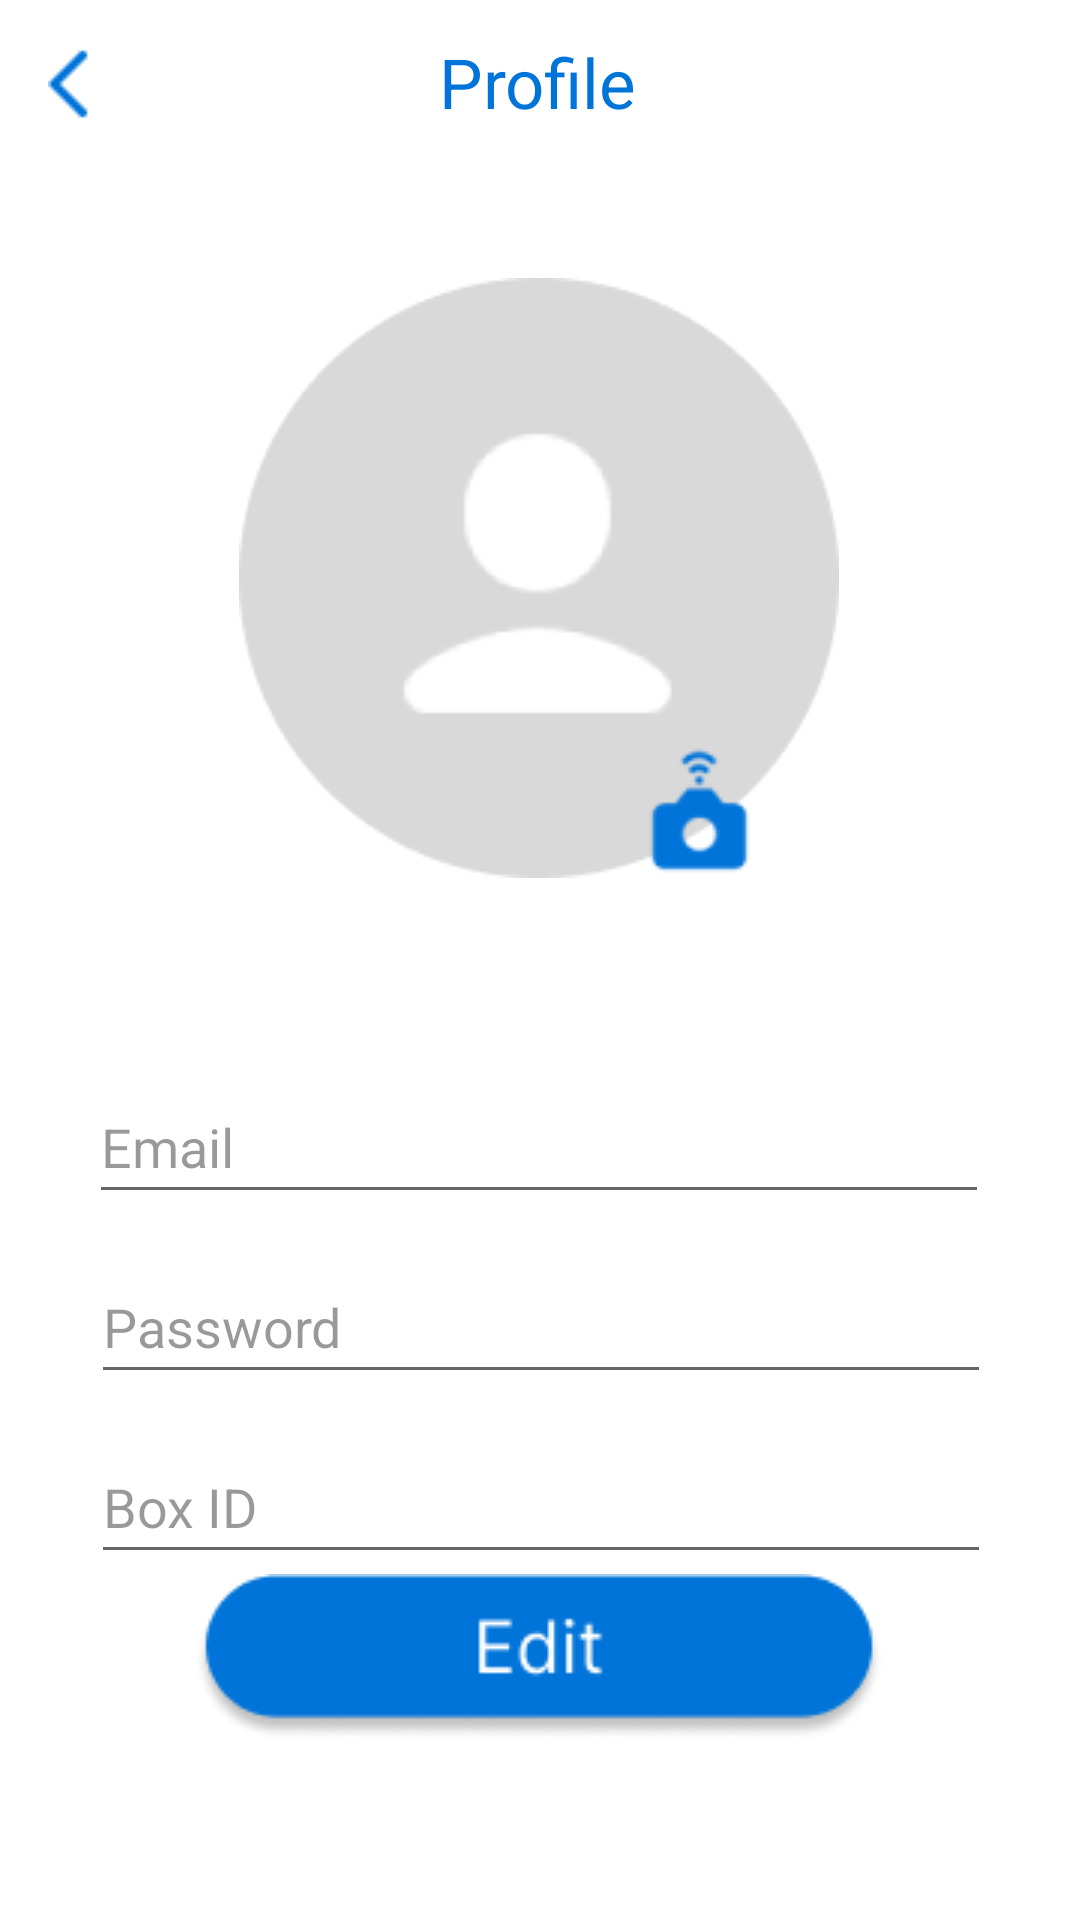

Point at icon controls on the screen. Image size 1080*1920, points as (x,y).
back arrow: (68,84)
